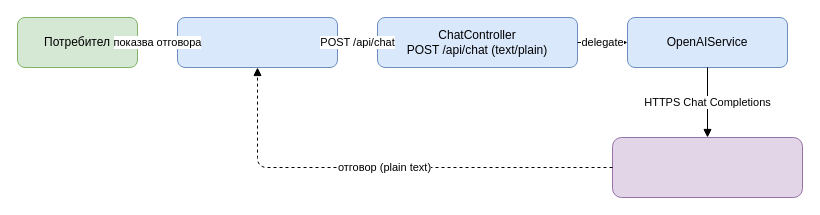
Image size: 820x215. Some labels were removed from this diagram. Here are the shapes that lost their labels. From the top down, the box of each, then its label:
(176, 16, 338, 68): ChatBot.tsx (плаваща widget)
(612, 136, 802, 198): OpenAI Chat Completions (gpt-4o-mini)
